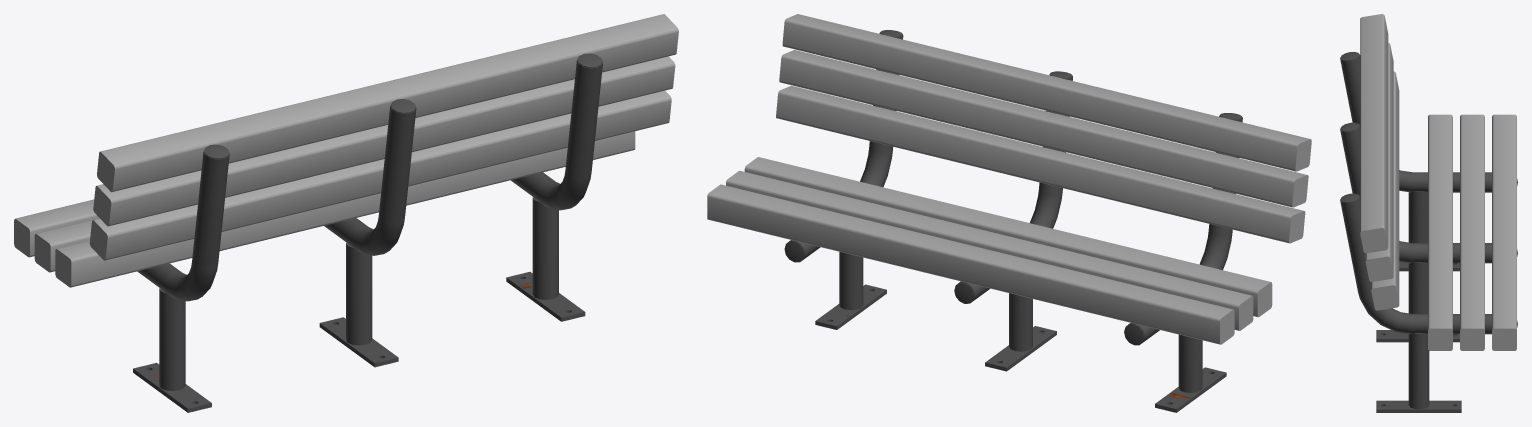
3 views of the same model, side by side, from view 1: azimuth 30°, elevation 25°; view 2: azimuth 150°, elevation 25°; view 3: azimuth 270°, elevation 25° (orthographic). The views are drawn at different scales.
Visible parts, largest first — view 1: mesh21_mesh21-geometry, mesh5_mesh5-geometry, mesh4_mesh4-geometry, mesh3_mesh3-geometry, mesh1_mesh1-geometry; view 2: mesh21_mesh21-geometry, mesh4_mesh4-geometry, mesh5_mesh5-geometry, mesh3_mesh3-geometry, mesh2_mesh2-geometry; view 3: mesh21_mesh21-geometry, mesh5_mesh5-geometry, mesh4_mesh4-geometry, mesh3_mesh3-geometry, mesh1_mesh1-geometry.
Boxes of the visible parts, left/top/right/bottom form: mesh21_mesh21-geometry: left=14, top=14, right=678, bottom=287; mesh5_mesh5-geometry: left=137, top=57, right=602, bottom=301; mesh4_mesh4-geometry: left=159, top=197, right=558, bottom=390; mesh3_mesh3-geometry: left=133, top=271, right=585, bottom=412; mesh1_mesh1-geometry: left=204, top=53, right=602, bottom=159; mesh21_mesh21-geometry: left=707, top=14, right=1311, bottom=344; mesh4_mesh4-geometry: left=839, top=252, right=1202, bottom=392; mesh5_mesh5-geometry: left=786, top=33, right=1242, bottom=345; mesh3_mesh3-geometry: left=815, top=284, right=1226, bottom=412; mesh2_mesh2-geometry: left=784, top=241, right=1144, bottom=345; mesh21_mesh21-geometry: left=1360, top=14, right=1516, bottom=350; mesh5_mesh5-geometry: left=1340, top=54, right=1491, bottom=334; mesh4_mesh4-geometry: left=1408, top=191, right=1429, bottom=409; mesh3_mesh3-geometry: left=1376, top=261, right=1461, bottom=412; mesh1_mesh1-geometry: left=1340, top=52, right=1359, bottom=202.
Size of the model in its own units: 0.8619 by 0.4069 by 0.3027.
